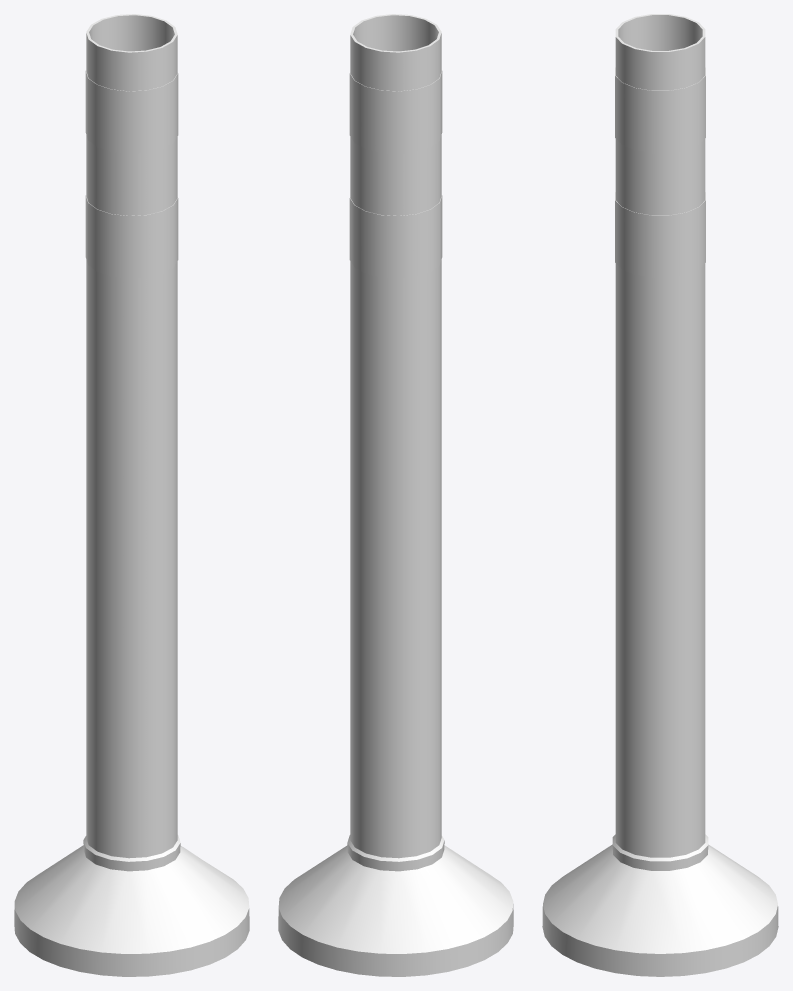
File: channelizer.fbx
3 views of the same model, side by side, from view 1: azimuth 30°, elevation 25°; view 2: azimuth 150°, elevation 25°; view 3: azimuth 270°, elevation 25° (orthographic).
Visible parts, largest first — view 1: node_id8 (×3); view 2: node_id8 (×3); view 3: node_id8 (×3).
Part boxes in pixels (x1,y1,x2,y2): node_id8 (×3): [14, 14, 249, 976]; node_id8 (×3): [278, 14, 513, 976]; node_id8 (×3): [542, 14, 778, 976].
Bounding box in the file's own units: 0.1225 × 0.512 × 0.1225.
Materials: 3 (3 with a texture image).
